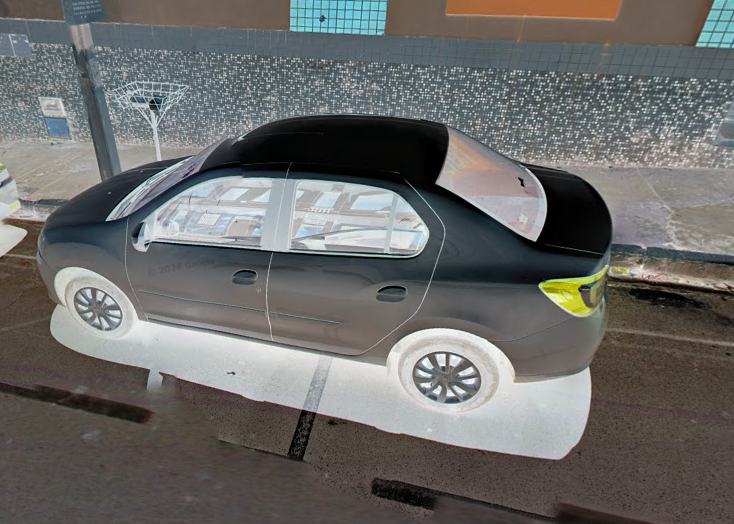car: (31, 94, 618, 426)
